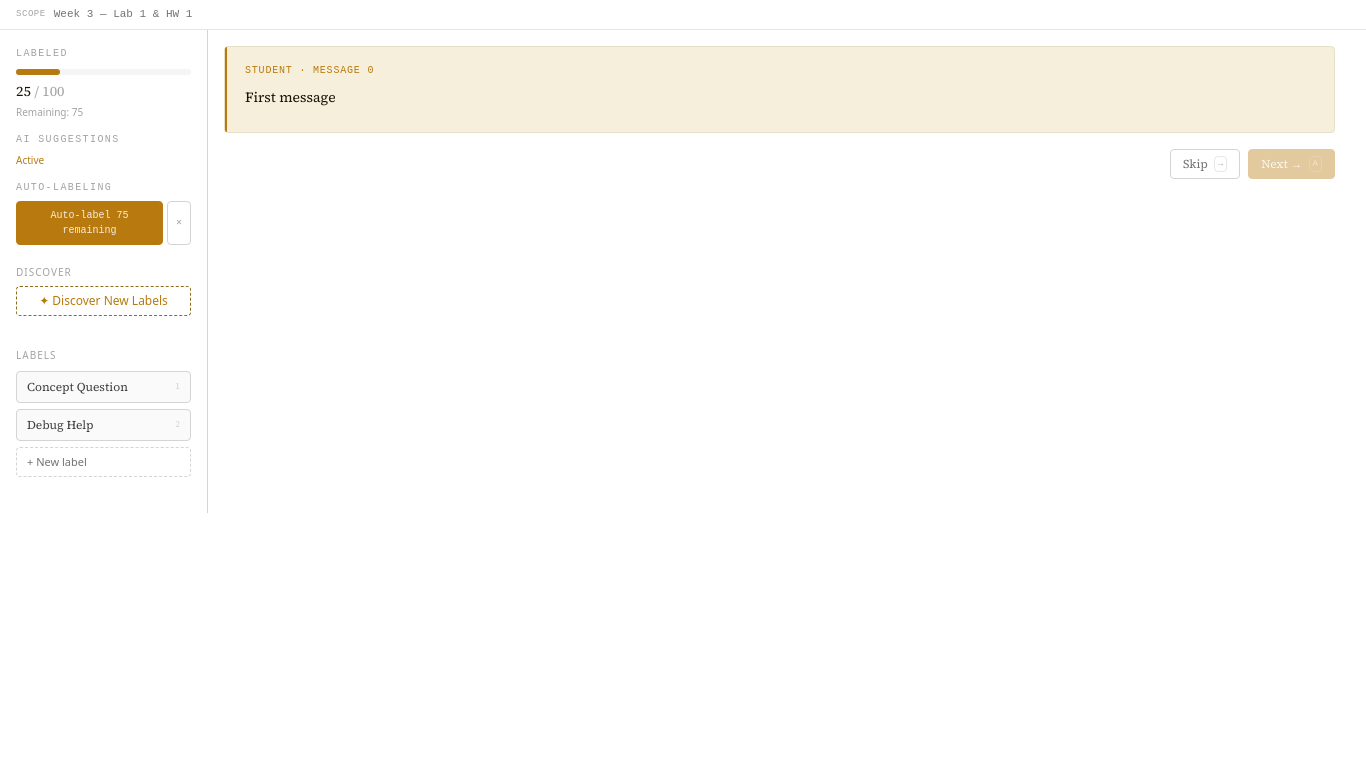
it: matching labels saves a matched recalibration event and shows the match toast
Expected: the text "First message" is shown, [245, 86, 336, 106]
Click the button "Concept Question 1": point(104, 386) [16, 370, 191, 402]
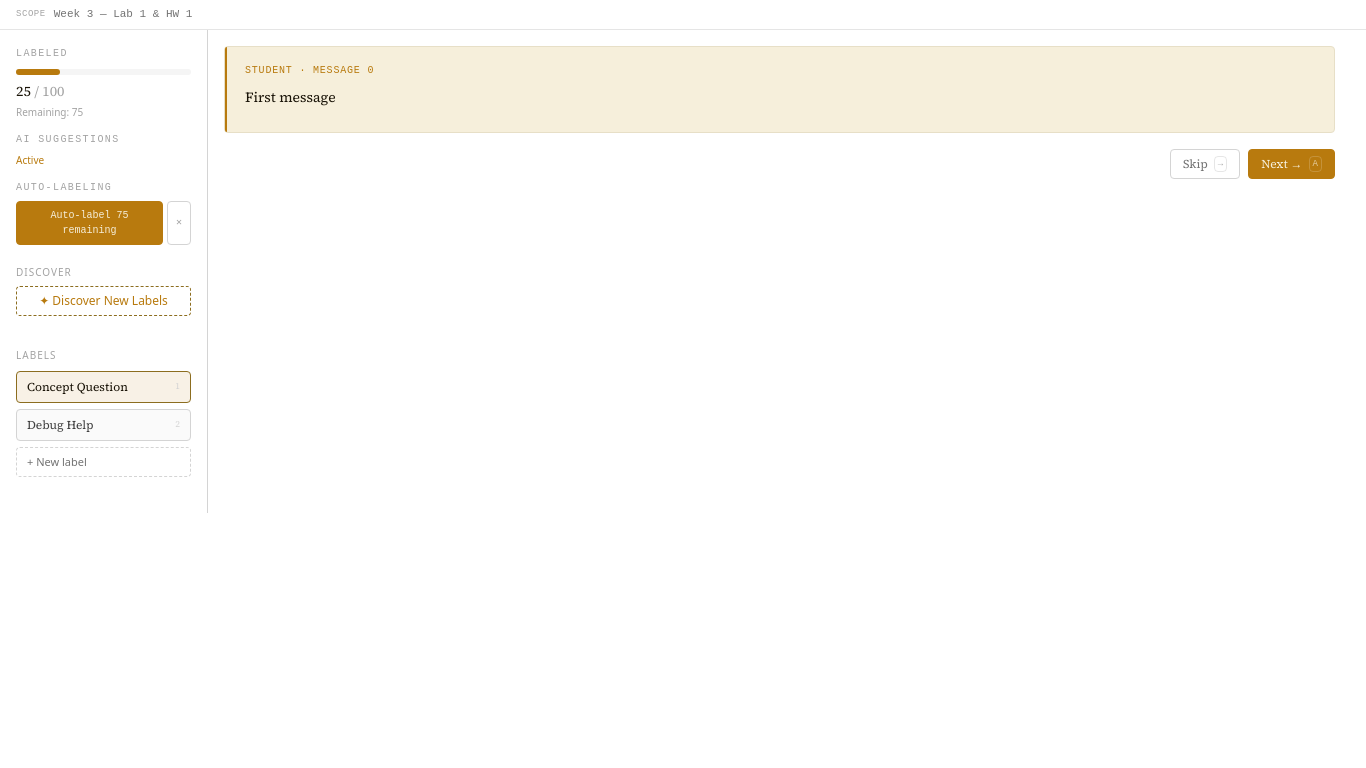
Expected: the button "Next → A" is enabled
Click the button "Next → A": point(1292, 164) [1248, 149, 1335, 179]
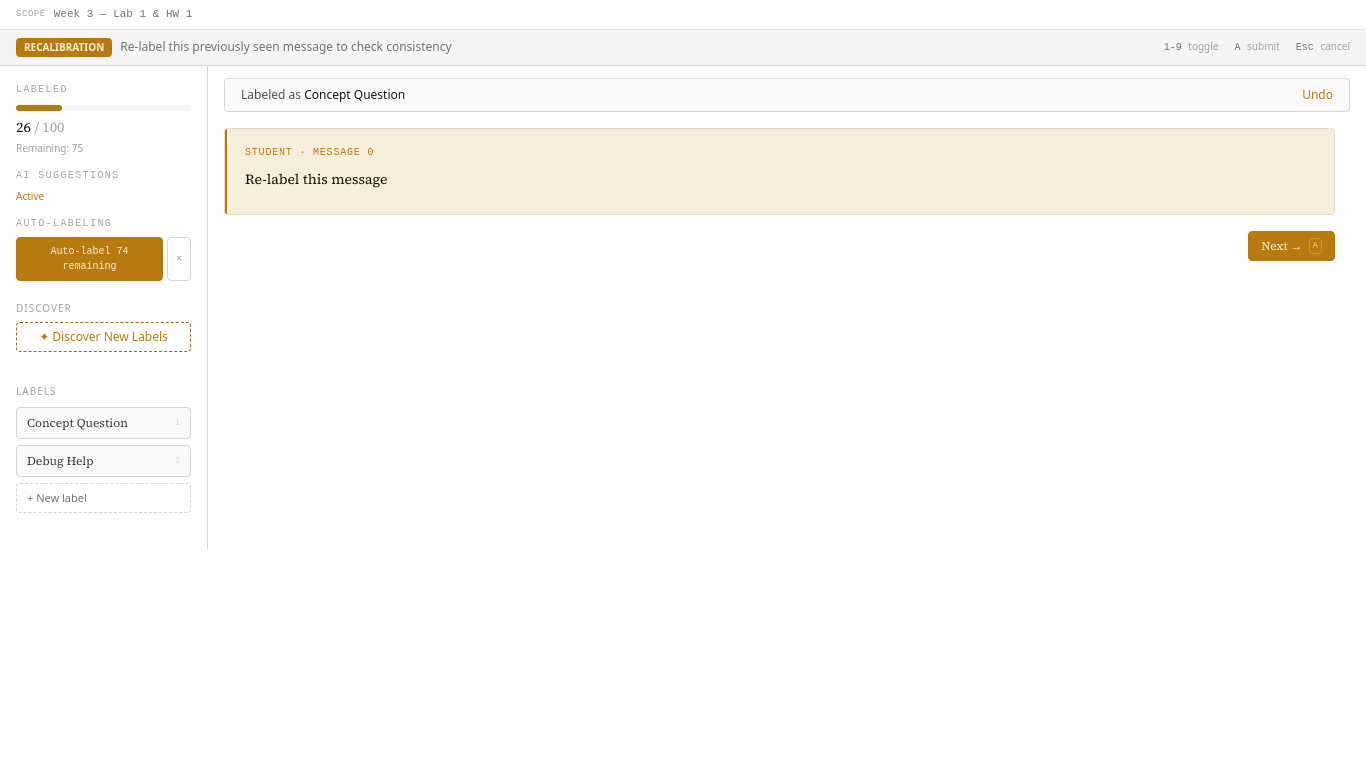
Expected: the text "RECALIBRATION" is shown, [16, 38, 112, 56]
Click the button "Concept Question 1": point(104, 422) [16, 406, 191, 438]
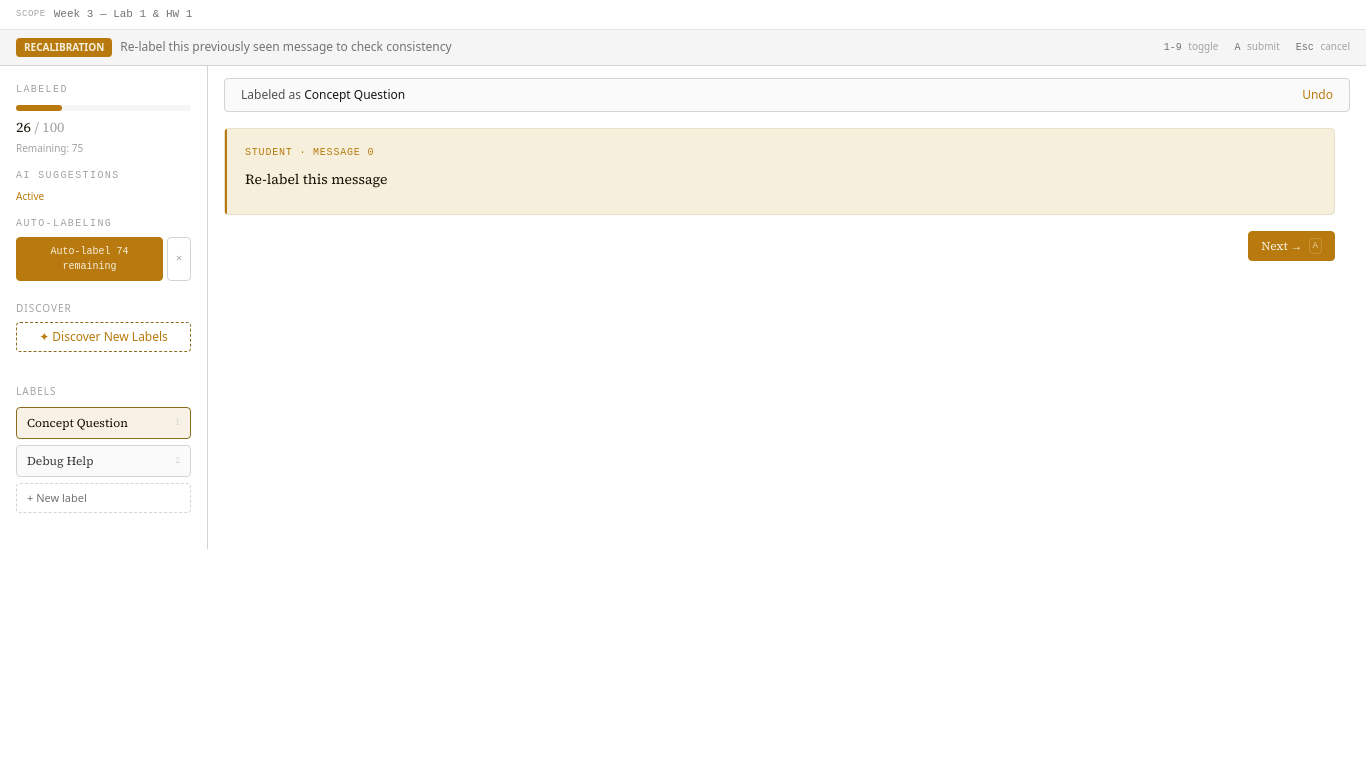
Expected: the button "Next → A" is enabled
Click the button "Next → A": point(1292, 246) [1248, 231, 1335, 261]
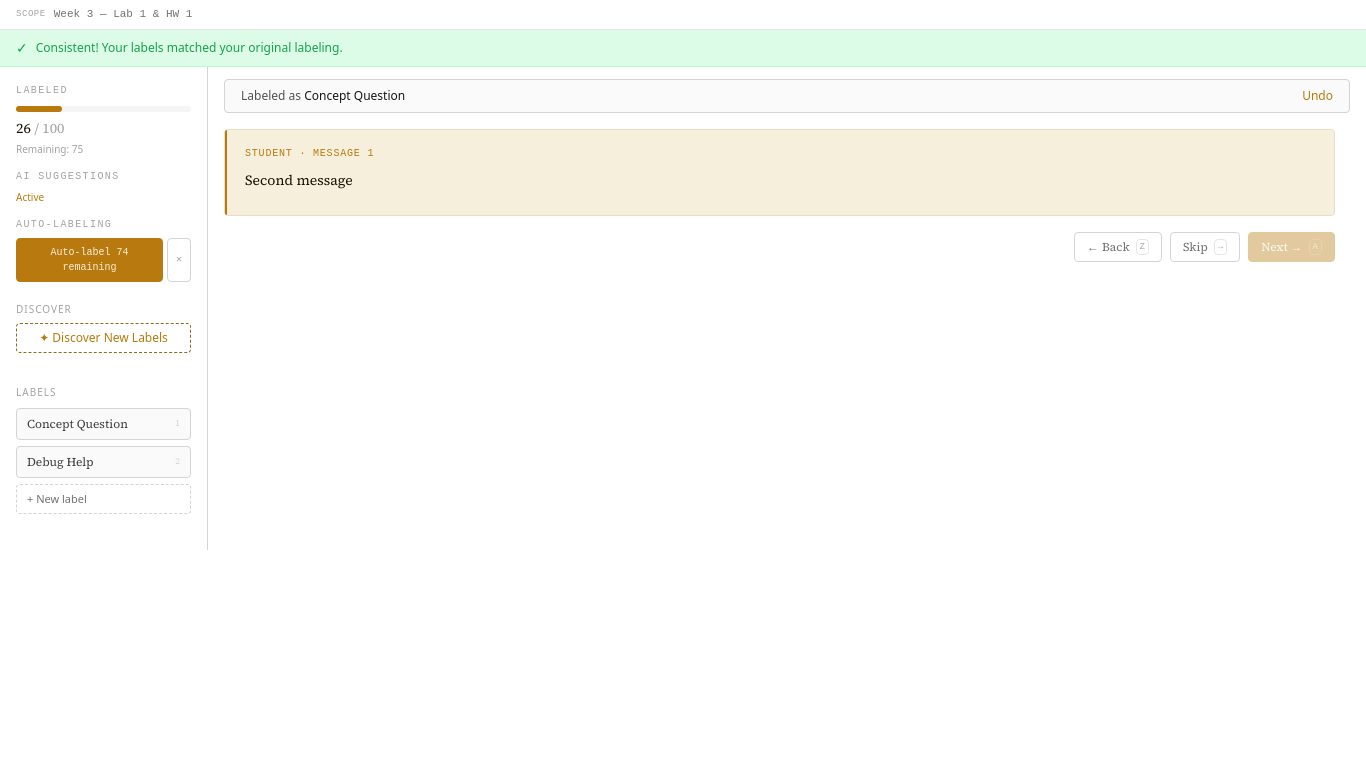
Expected: the text "Consistent! Your labels matched your original labeling." is shown, [36, 40, 343, 56]
Expected: the text "RECALIBRATION" is gone
